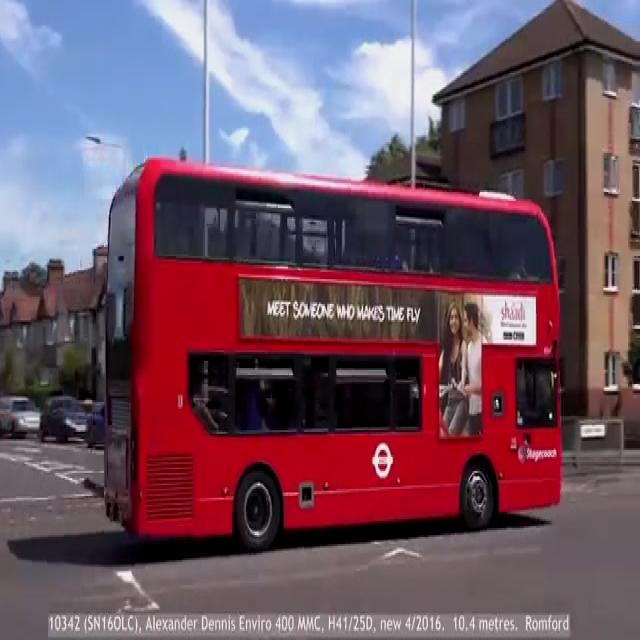bus: (105, 161, 563, 559)
